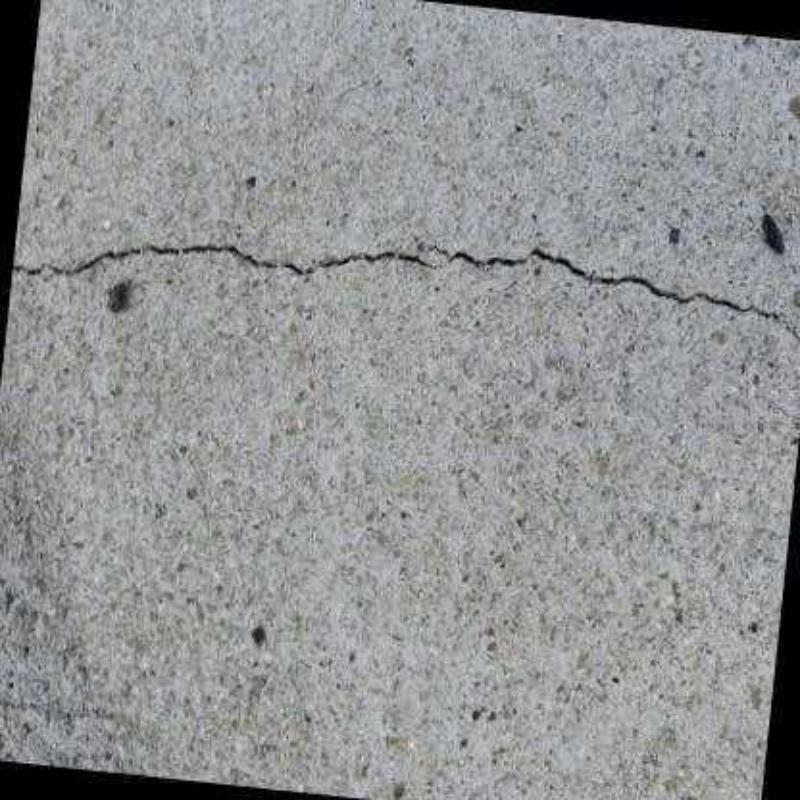pothole: (426, 242, 800, 342), (11, 238, 430, 277)
